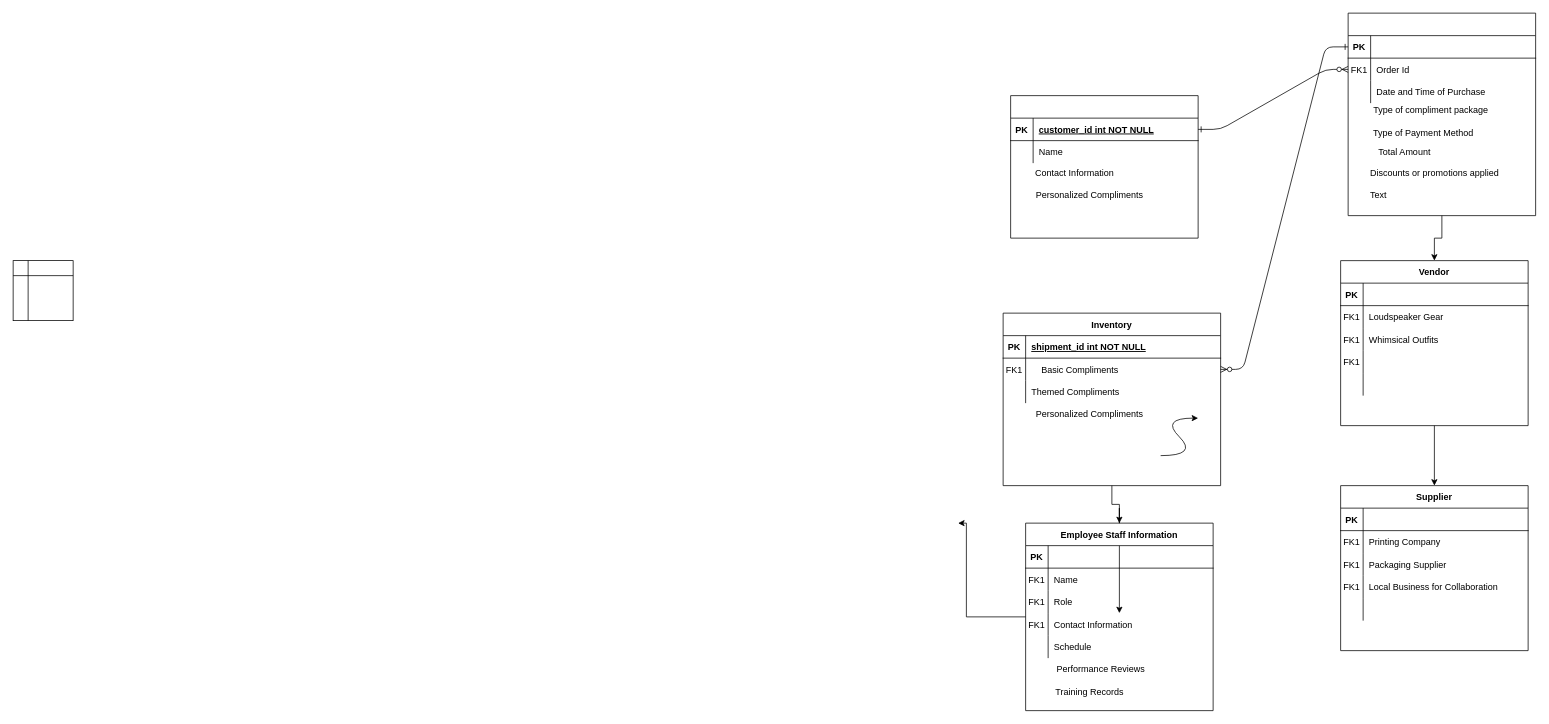
Some shapes in this 1549 by 724 pixel diagram are drawn without their labels. Each missing label, with the box of its shape:
Customers Information: (1010, 95, 1198, 238)
Transactions: (1347, 12, 1536, 216)
